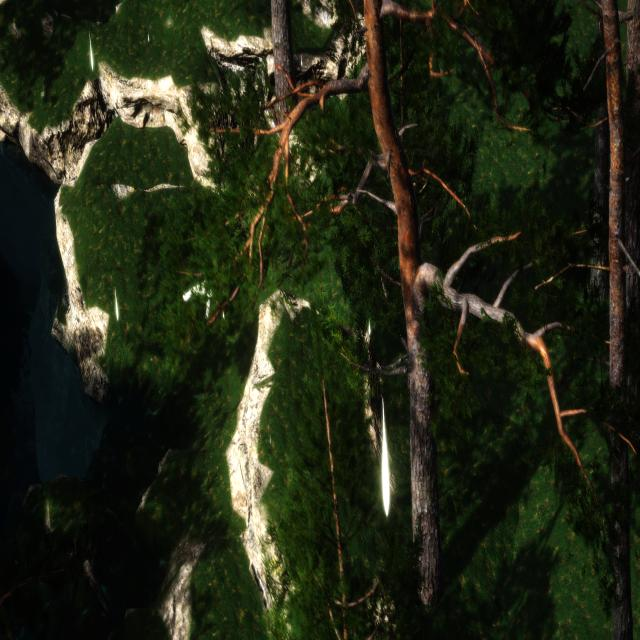Human: (180, 239, 215, 328)
